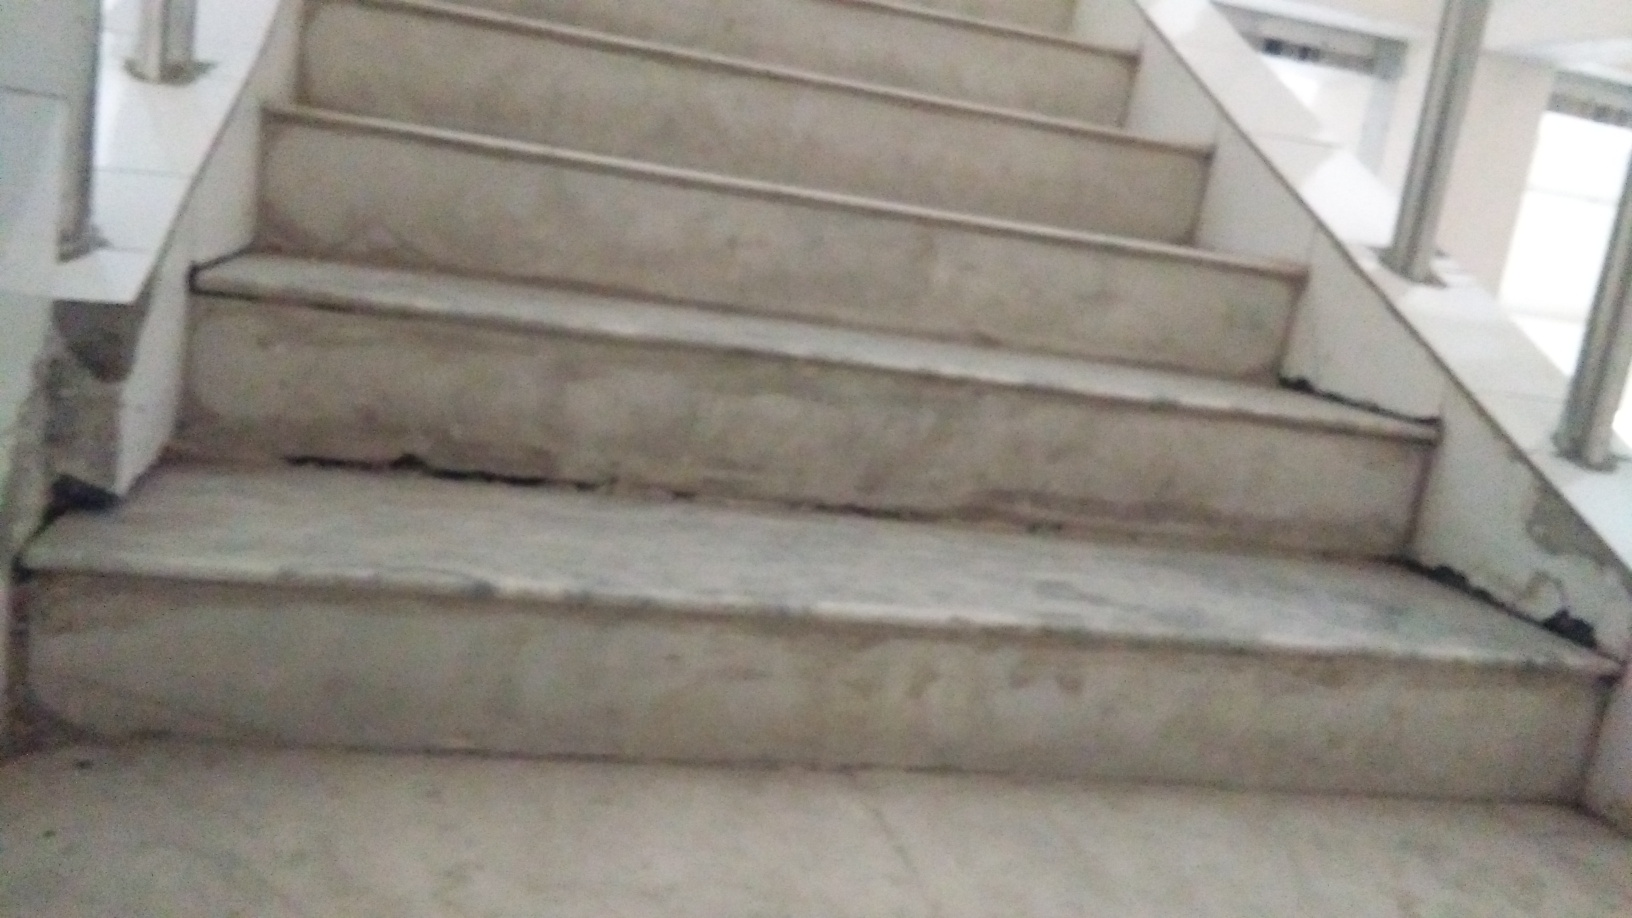stairs_up: (92, 2, 1612, 828)
